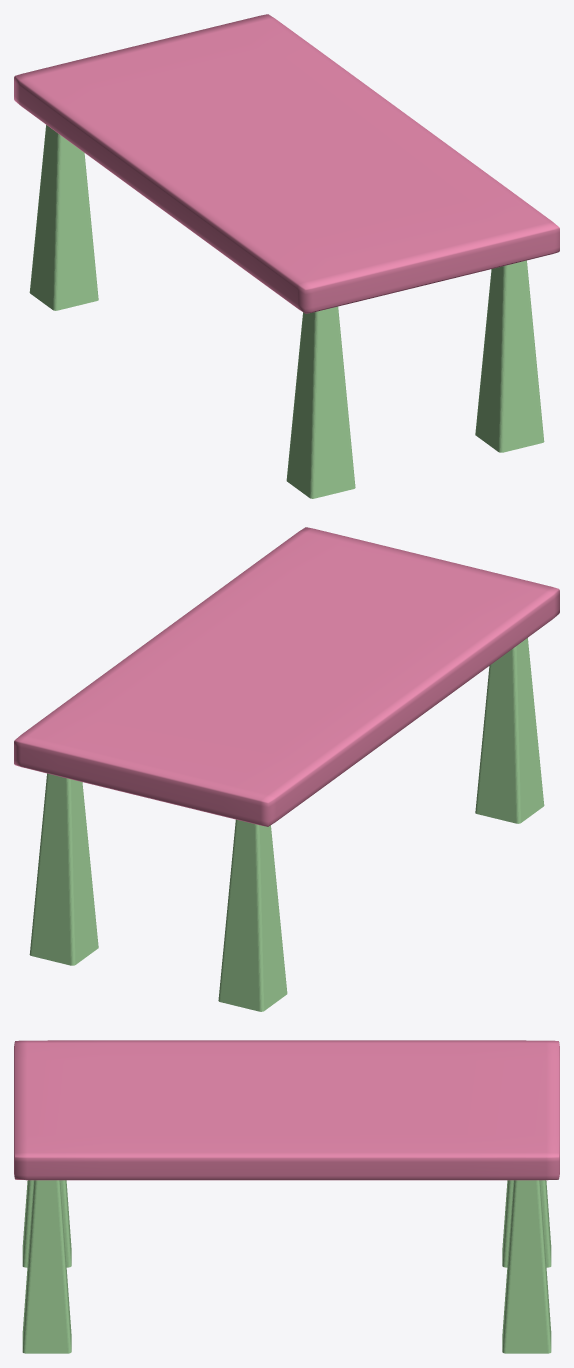
File: table-2.fbx
3 renders of one model, top to bottom at view 1: azimuth 30°, elevation 25°; view 2: azimuth 150°, elevation 25°; view 3: azimuth 270°, elevation 25°, orthographic. The views are drawn at different scales.
Parts seen in each view (by area): view 1: table2; view 2: table2; view 3: table2.
Part boxes in pixels (box(x1,y1,x2,y2)): table2: box(14, 14, 559, 498); table2: box(14, 527, 559, 1011); table2: box(14, 1040, 559, 1353).
Bounding box in the file's own units: 385 × 310 × 758.
